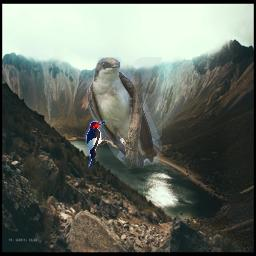Swallow: (87, 57, 162, 169)
Woodpecker: (82, 118, 108, 169)
